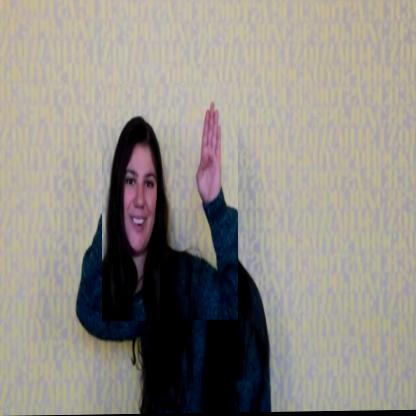Hello: (102, 83, 238, 322)
